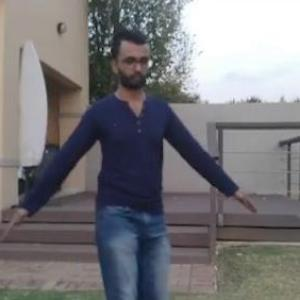land: (1, 45, 223, 299)
